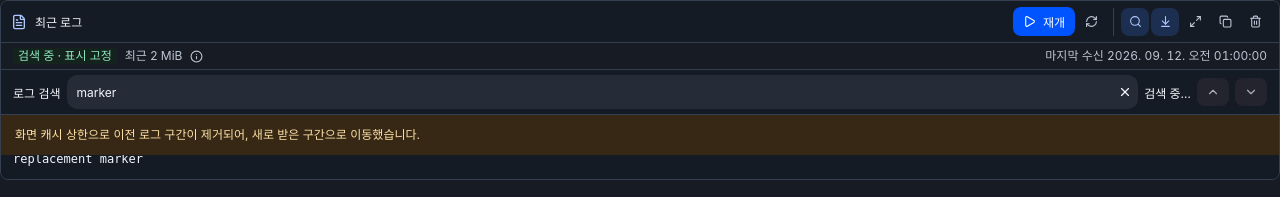
Test case: standalone target view restoration › explains the evicted range after a real replacement and resets the reason on Clear (ko)
(page scrolled)
Expected: the search field holds "marker", x1=66 y1=75 x2=1138 y2=109
Expected: the button "재개" is shown, x1=1013 y1=7 x2=1075 y2=36
Click the button named "로그 화면 비우기": (1255, 22) x1=1241 y1=8 x2=1269 y2=36
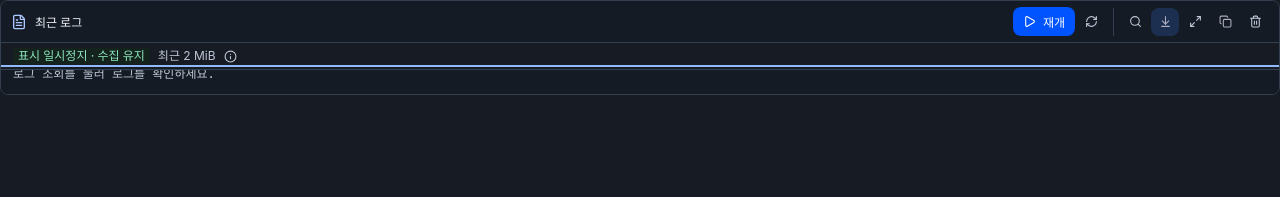
Expected: the text "화면 캐시 상한" is gone
